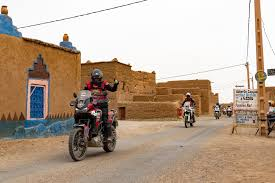motorcycle: (62, 88, 125, 161), (182, 103, 197, 126), (214, 105, 224, 117), (224, 106, 234, 117)
